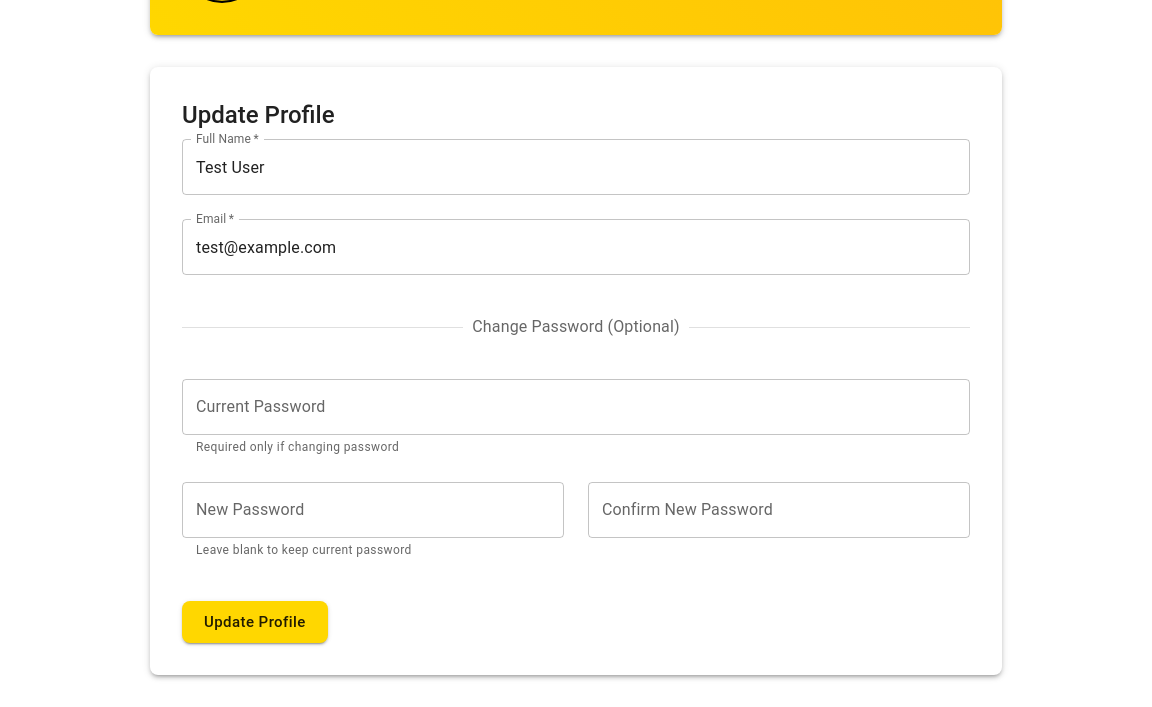
Scenario: Profile Component › Form Submission › should show loading state during submission
This screenshot has width=1152, height=707.
(page scrolled)
Click the button "Update Profile" at (255, 622), box [182,601,328,644]
(page scrolled)
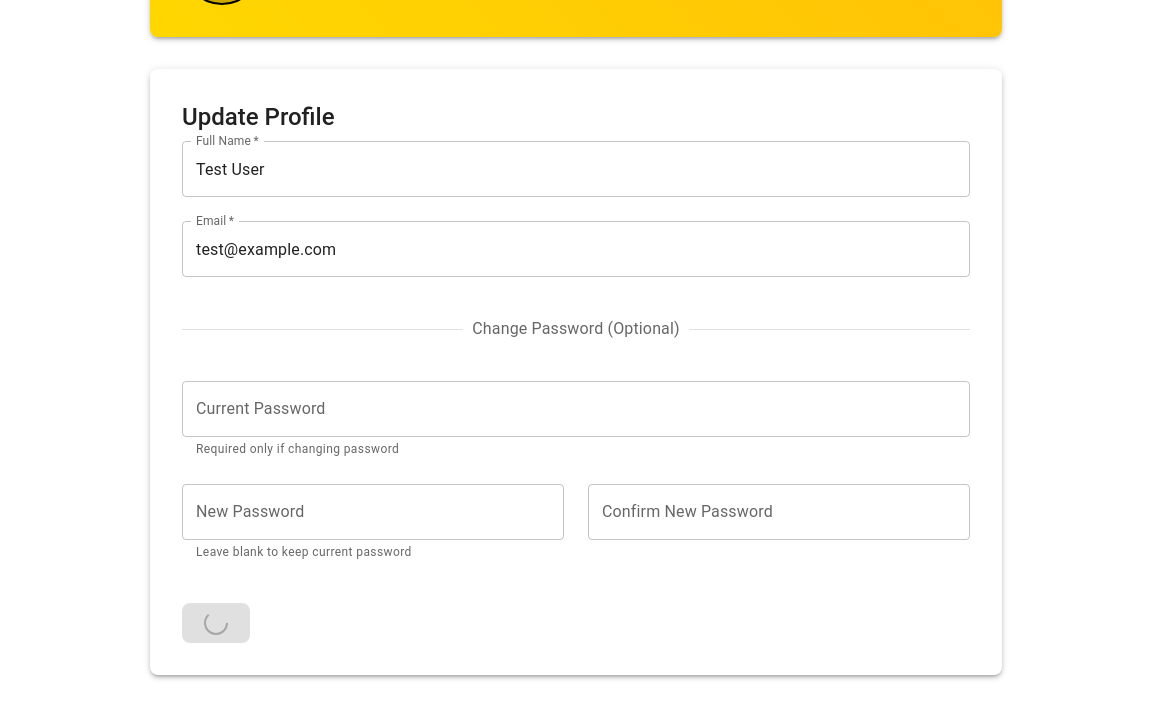
Expected: the button named "Update Profile" is disabled, [182,603,250,643]
